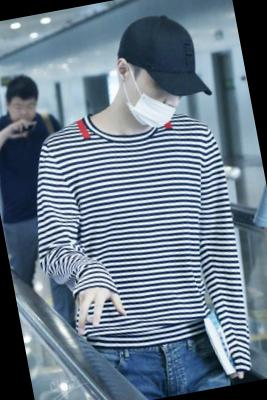mask_weared_incorrect: (125, 65, 188, 131)
without_mask: (7, 94, 40, 127)
